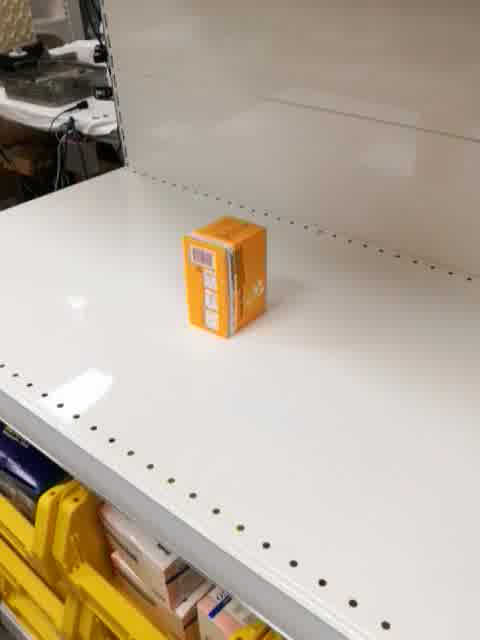jasminetea: (183, 216, 269, 339)
